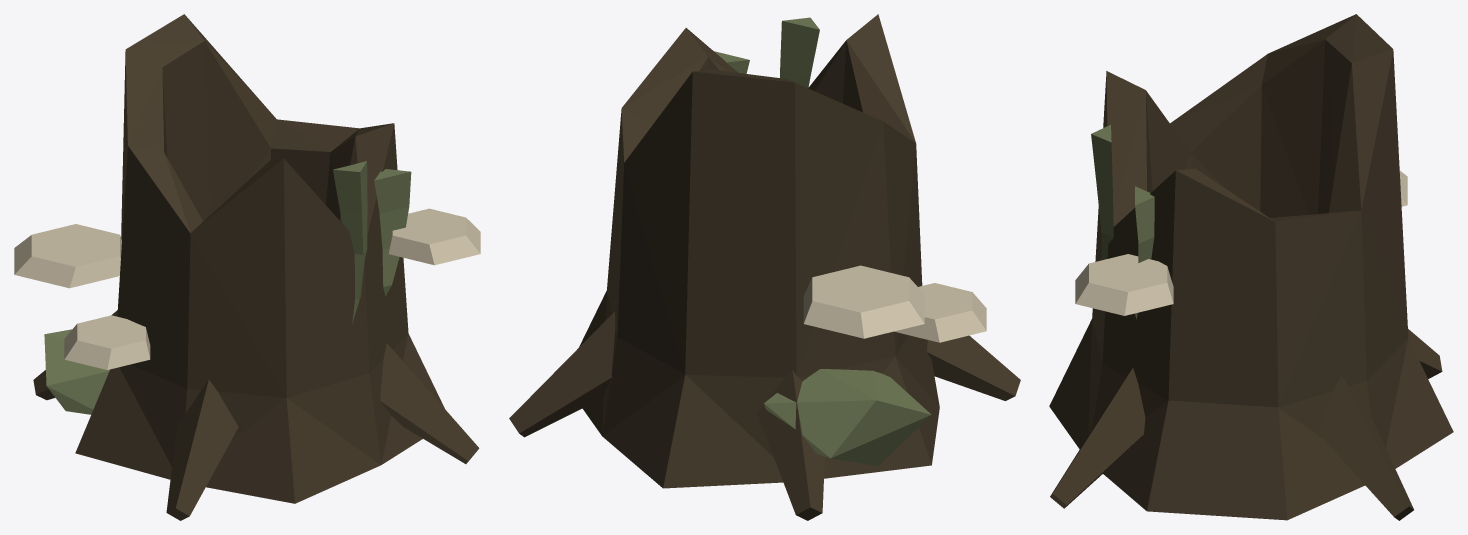
File: Swamp_Stump.fbx
3 views of the same model, side by side, from view 1: azimuth 30°, elevation 25°; view 2: azimuth 150°, elevation 25°; view 3: azimuth 270°, elevation 25° (orthographic). The views are drawn at different scales.
Visible parts, largest first — view 1: Bark, Fungus, Moss; view 2: Bark, Moss, Fungus; view 3: Bark, Fungus, Moss.
Boxes of the visible parts, box(x1,y1,x2,y2) form: Bark: box(33, 14, 479, 520); Fungus: box(14, 208, 480, 369); Moss: box(44, 161, 411, 414); Bark: box(509, 14, 1020, 520); Moss: box(714, 17, 931, 465); Fungus: box(803, 265, 986, 342); Bark: box(1049, 14, 1453, 520); Fungus: box(1075, 170, 1407, 315); Moss: box(1091, 124, 1154, 319).
Size of the model in its own units: 2.38 by 2.3 by 2.14.
